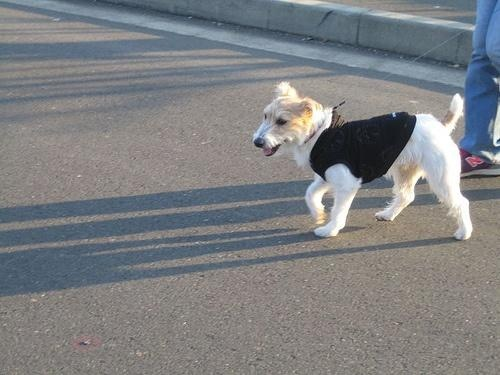dog: (253, 81, 475, 241)
